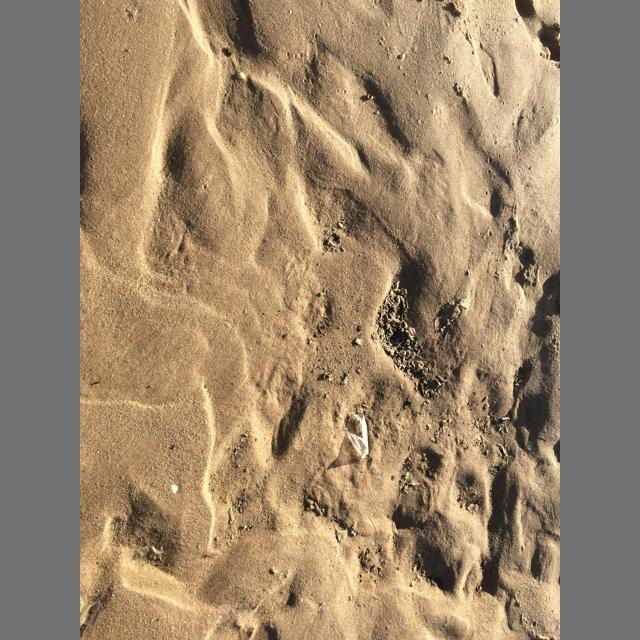litter: (345, 413, 369, 459), (502, 417, 510, 420)
